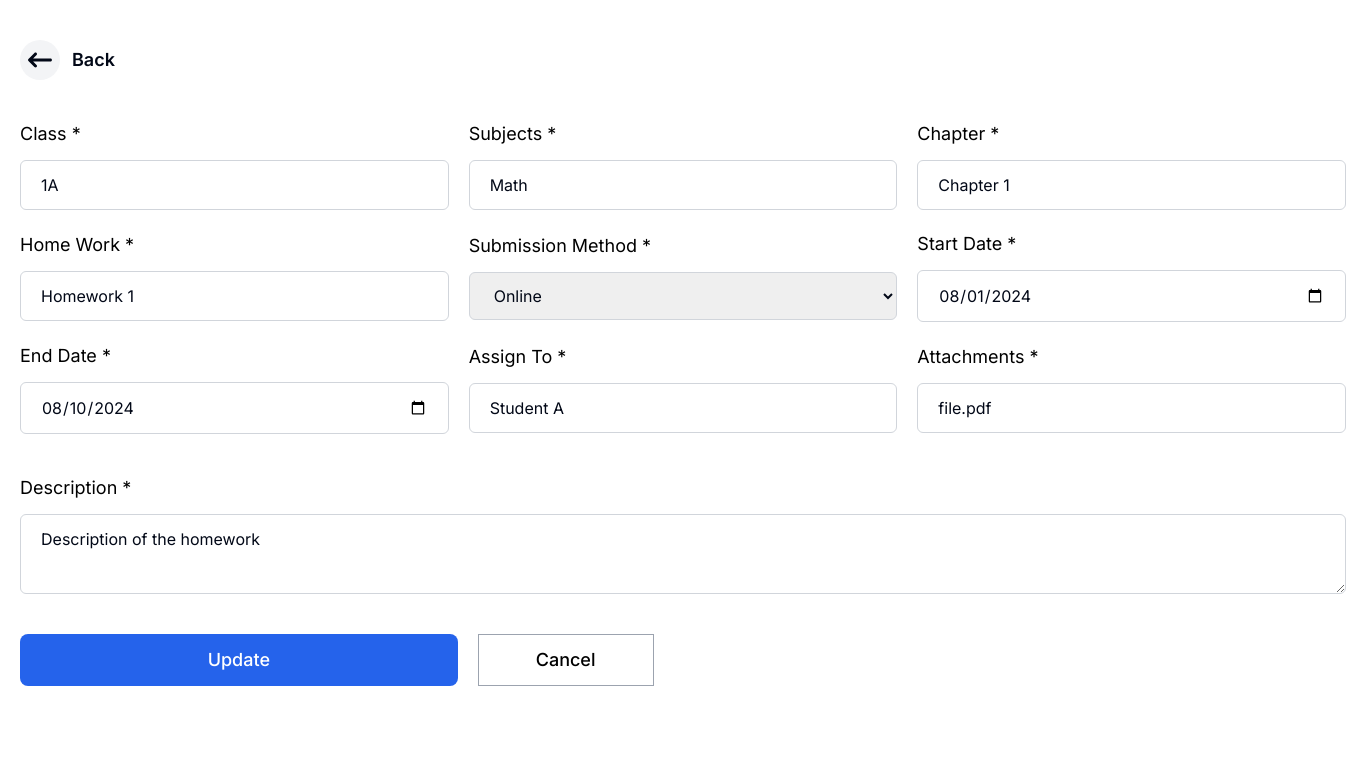
Test: EditDetails Component › shows success card on successful update
Replace the text in the field labelled "Class *" with "2B". click: [234, 185]
box: [20, 160, 449, 210]
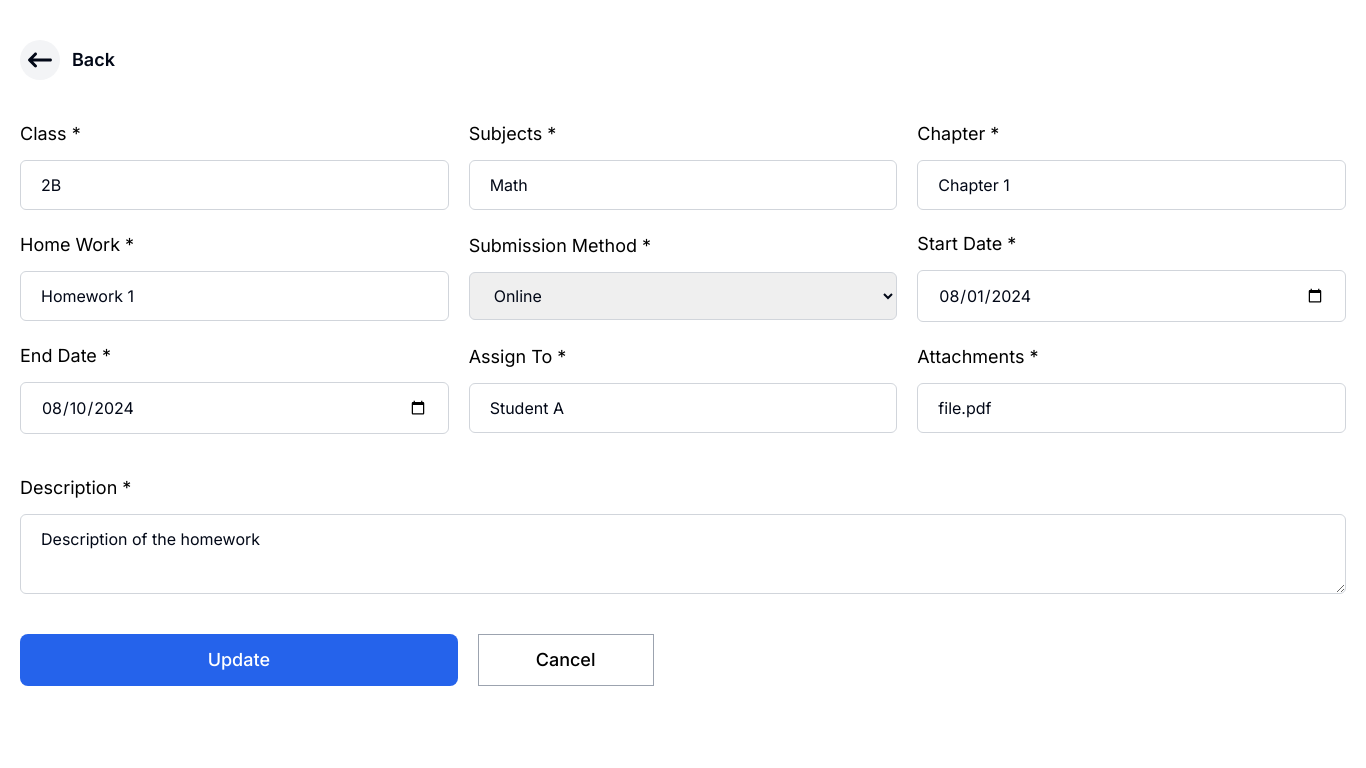
Replace the text in the field labelled "Subjects *" with "Science". click: [683, 185]
box: [469, 160, 897, 210]
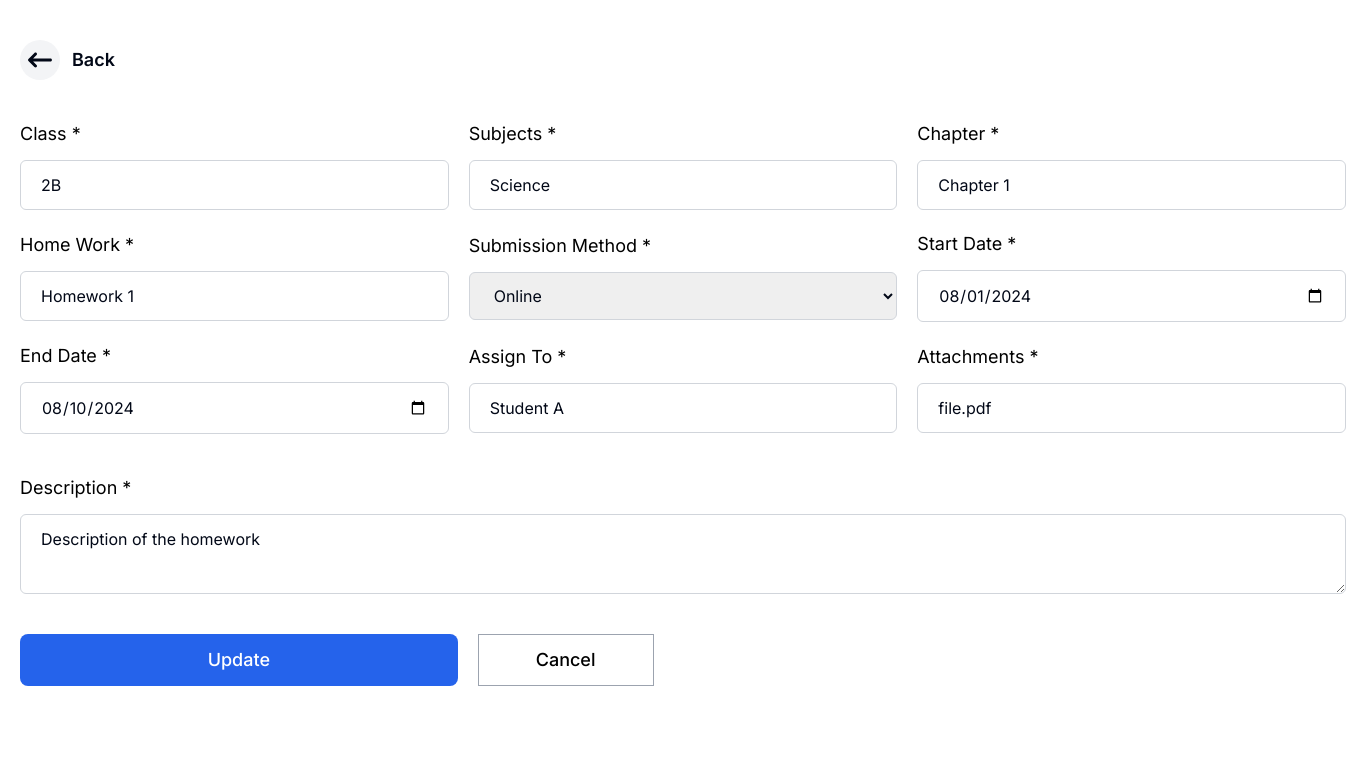
Click the button "Update". click: [239, 660]
box: [20, 634, 458, 686]
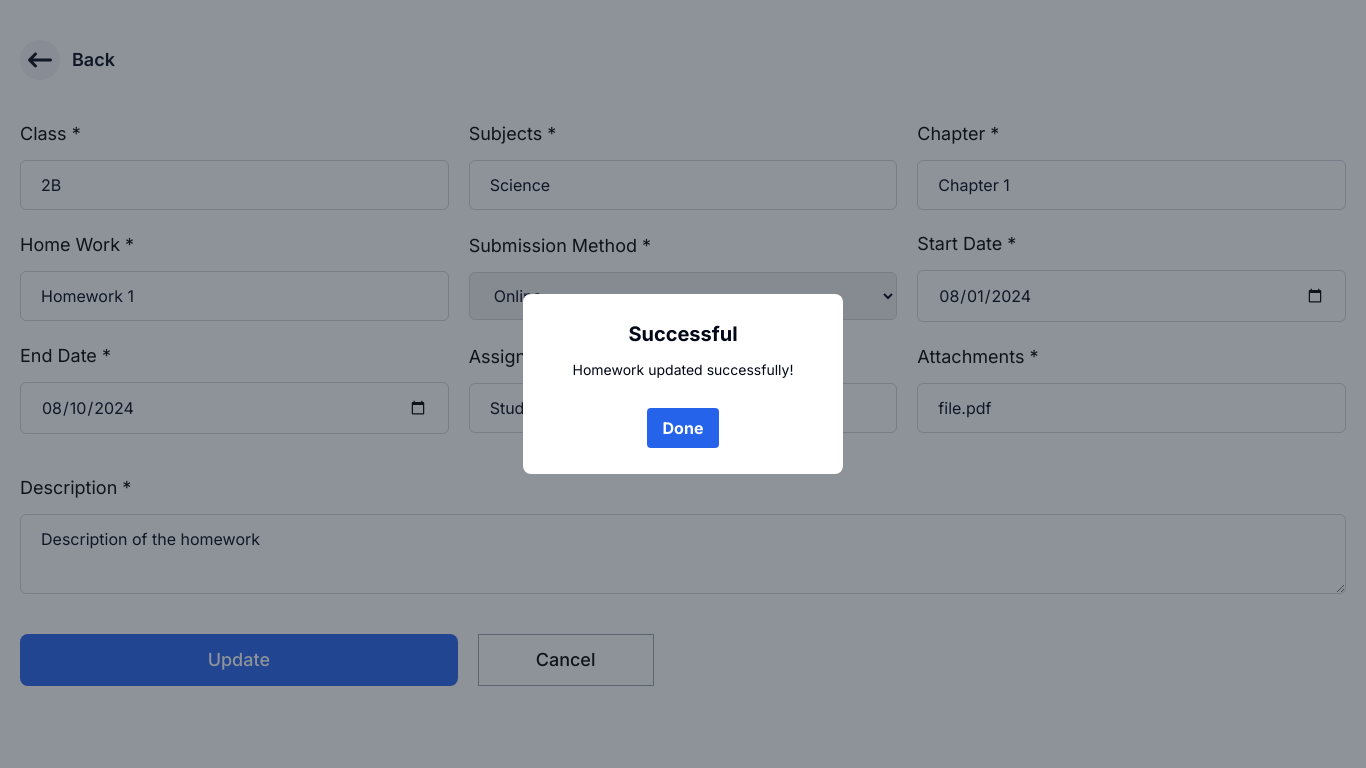
Check: the heading "Homework updated successfully!" is shown, box [572, 360, 793, 380]
